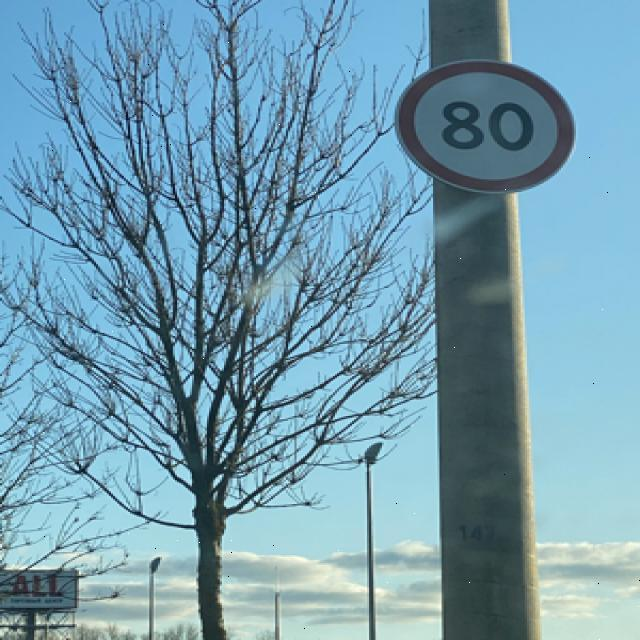speed limit 80: (395, 61, 577, 196)
